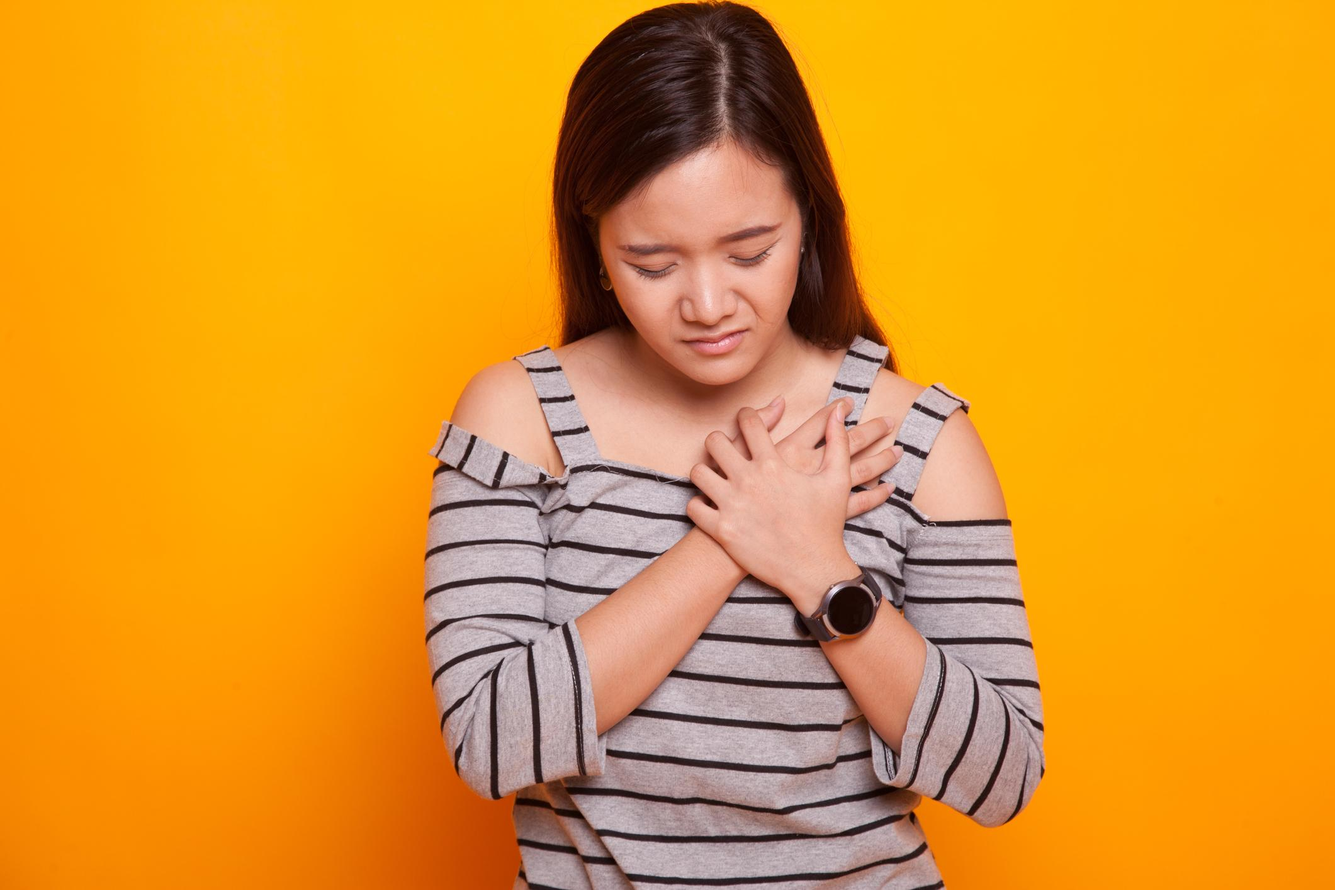pain: (614, 215, 789, 282)
